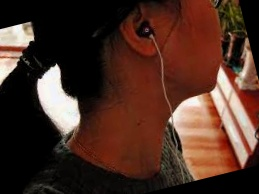earphone: (115, 0, 163, 62)
